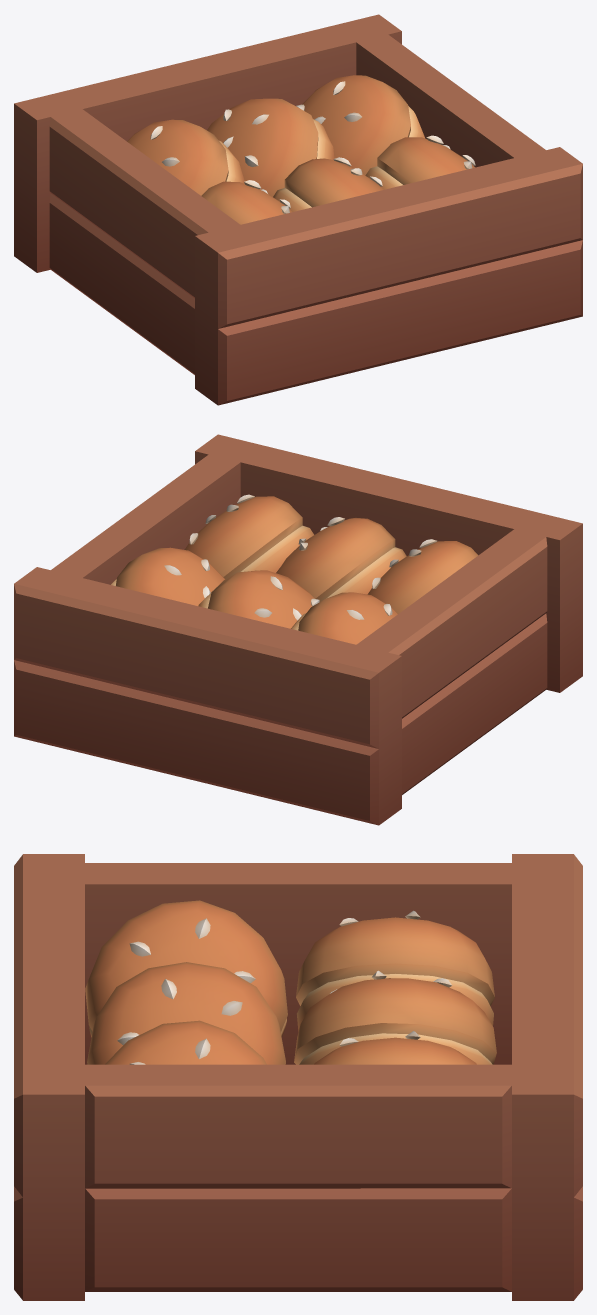
The model's file is crate_buns.obj.
The picture shows the model from 3 angles, top to bottom: view 1: azimuth 30°, elevation 25°; view 2: azimuth 150°, elevation 25°; view 3: azimuth 270°, elevation 25°; orthographic projection. The views are drawn at different scales.
Visible parts, largest first — view 1: crate_buns_Cube.233; view 2: crate_buns_Cube.233; view 3: crate_buns_Cube.233.
Part boxes in pixels (x1,y1,x2,y2): crate_buns_Cube.233: (14, 14, 582, 405); crate_buns_Cube.233: (14, 434, 582, 825); crate_buns_Cube.233: (14, 854, 582, 1300).
Size of the model in its own units: 2 by 0.8024 by 2.
Materials: 1 (1 with a texture image).
